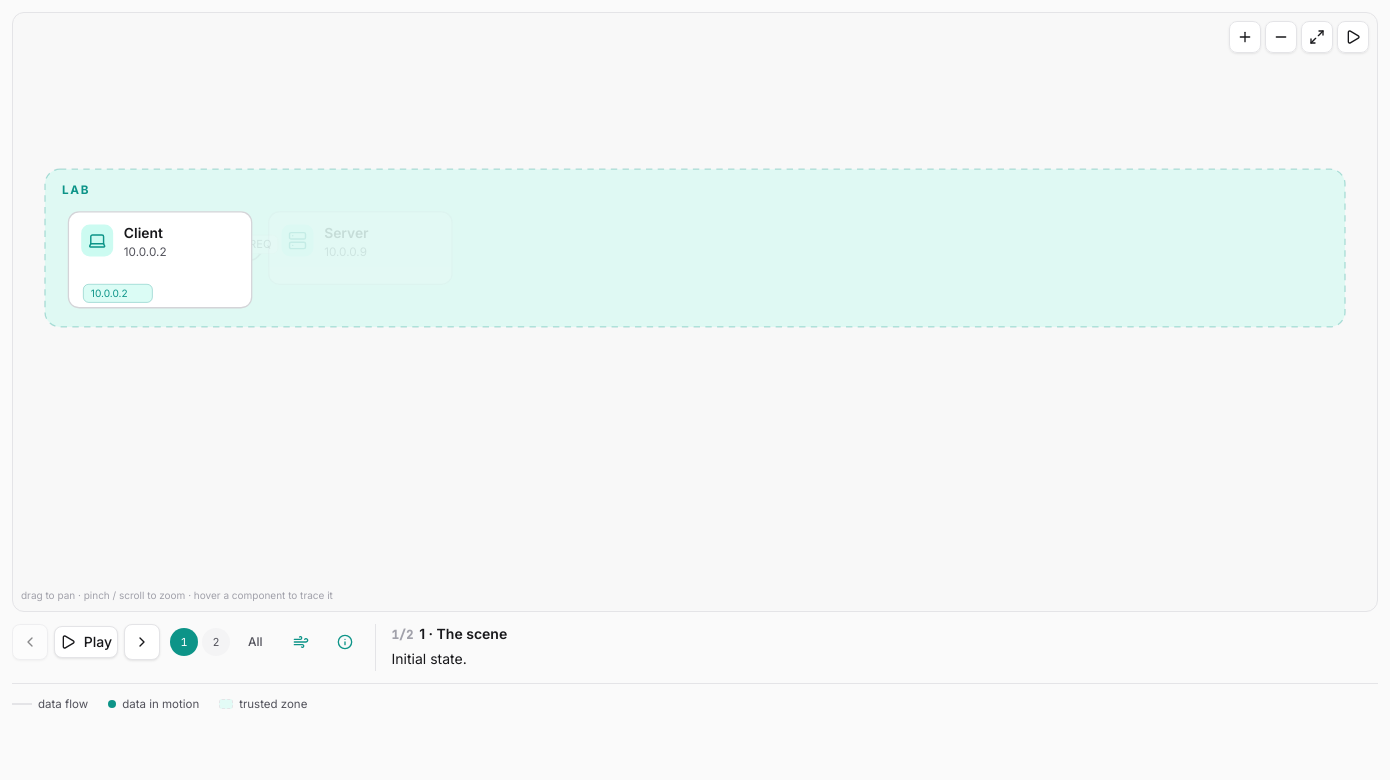
Test: DiagramCanvas › steps forward and back through the captions
Click the button named "Next step" at (142, 642), box x1=124 y1=624 x2=160 y2=660
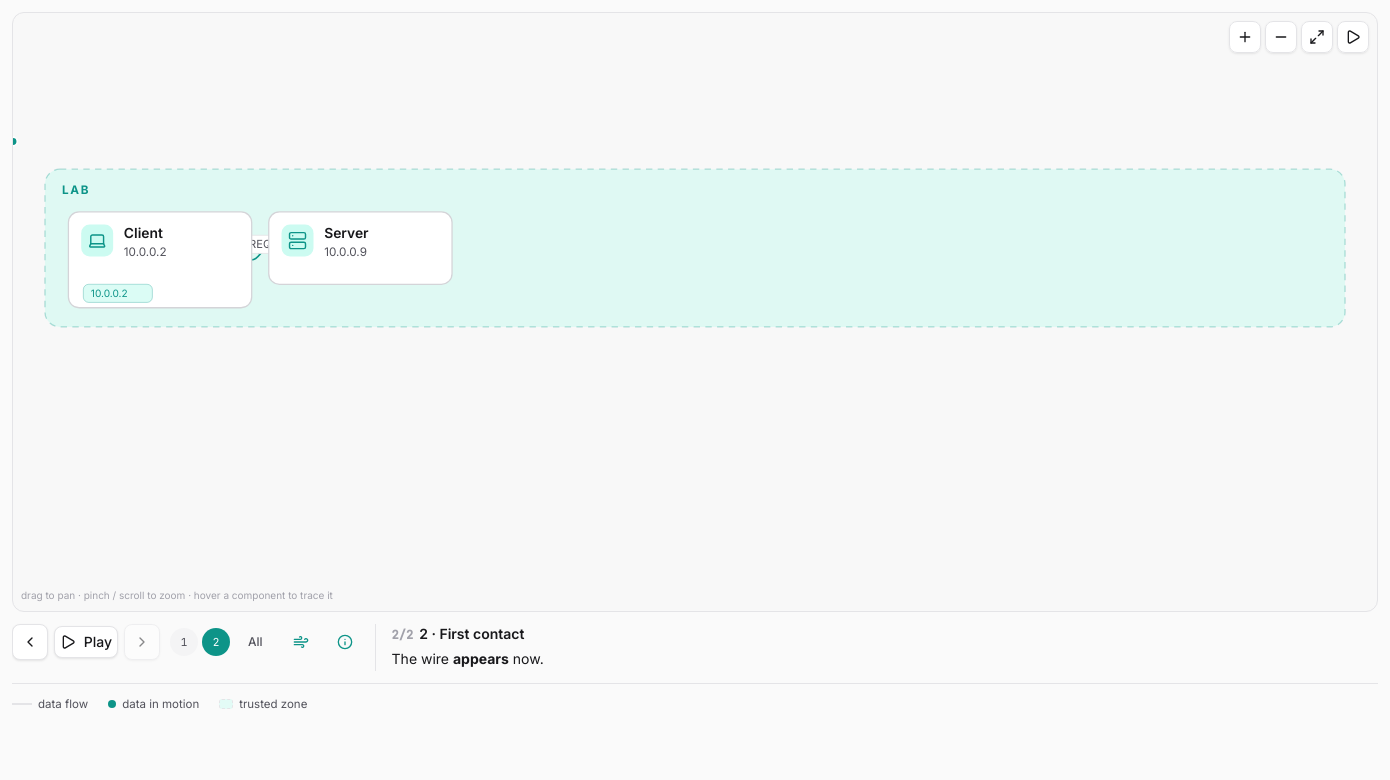
Expected: the text "2 · First contact" is shown, x1=419 y1=625 x2=524 y2=642
Click the button named "Previous step" at (30, 642), box x1=12 y1=624 x2=48 y2=660
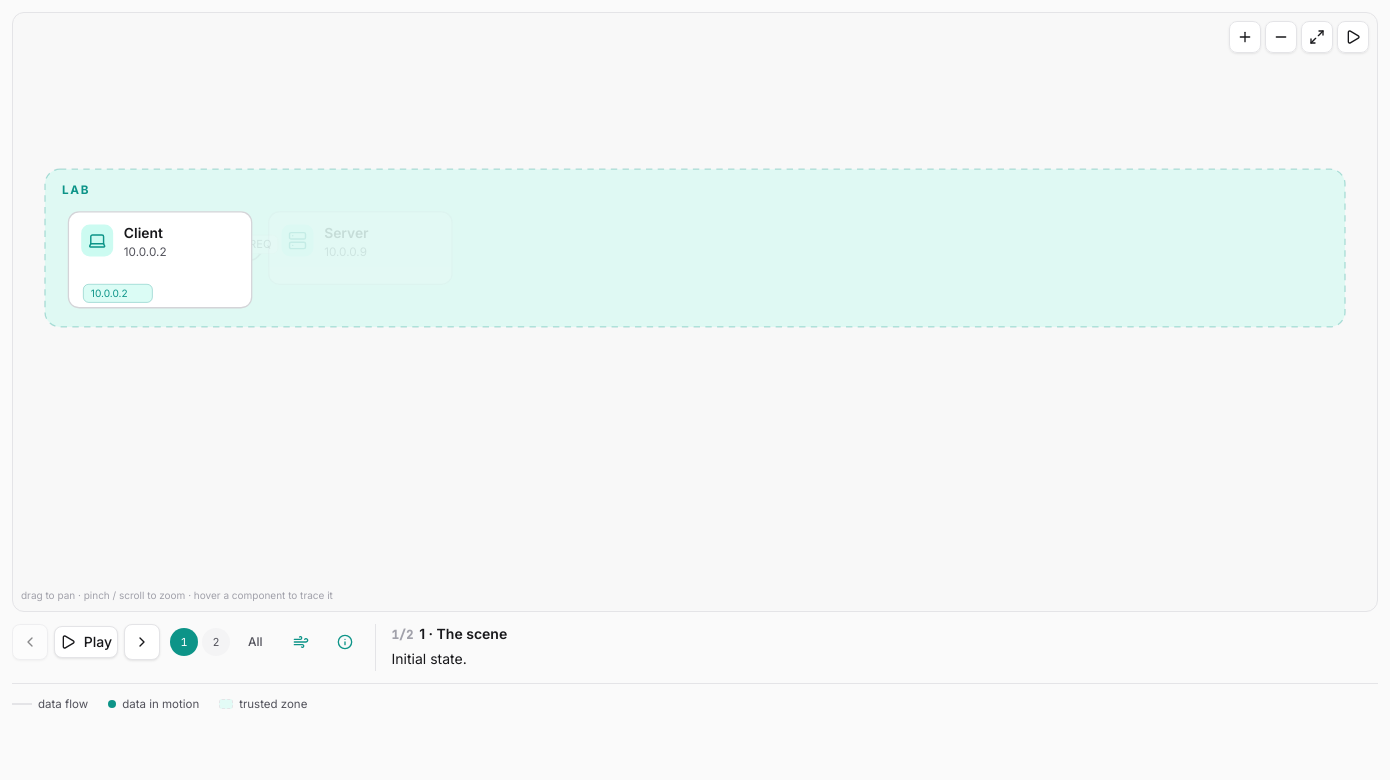
Expected: the text "1 · The scene" is shown, x1=419 y1=625 x2=507 y2=642
